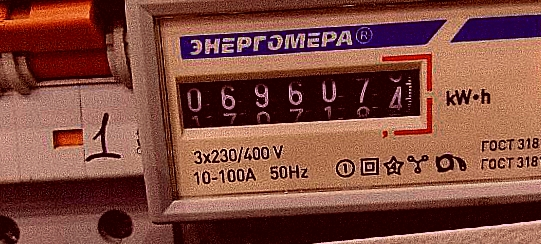0: (183, 84, 205, 113), (319, 73, 339, 103), (219, 82, 237, 109)
4: (386, 83, 405, 112)
6: (285, 75, 304, 106)
7: (352, 73, 372, 103)
9: (252, 79, 271, 108)
screen: (161, 48, 439, 147)
